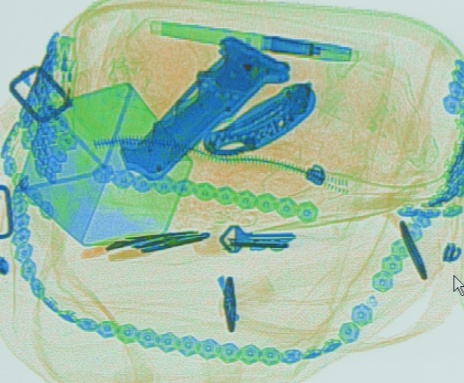knife: (119, 32, 290, 182), (201, 78, 317, 159)
lighter: (55, 34, 77, 107)
